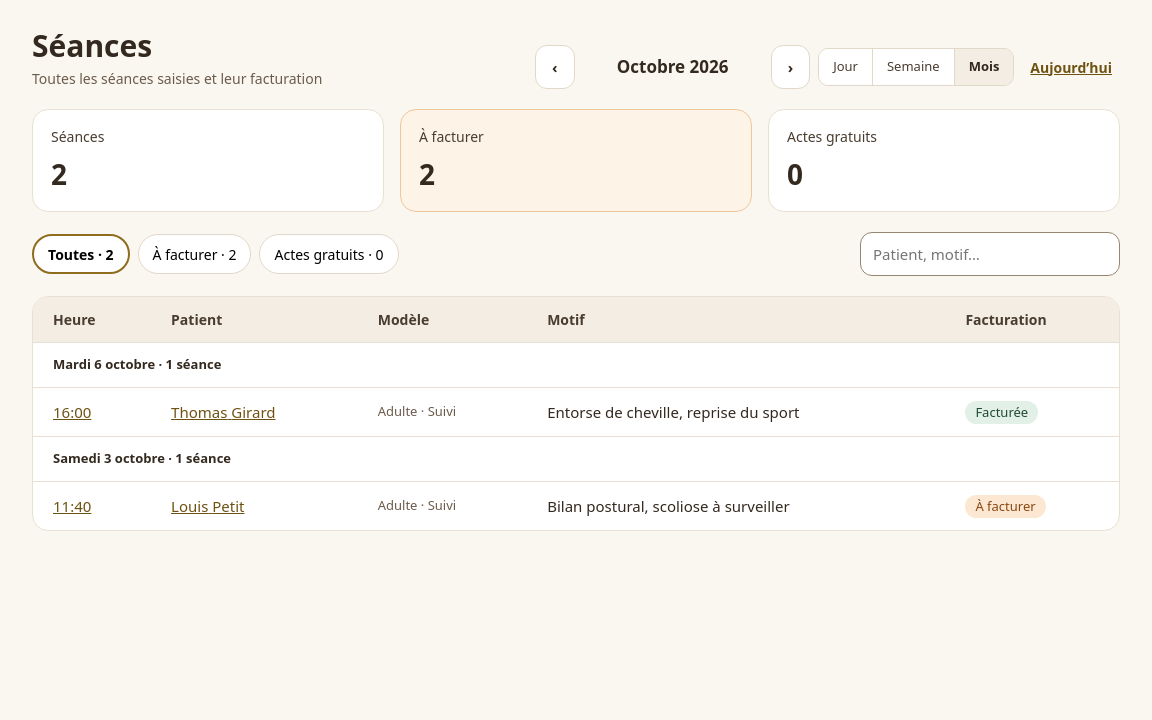
Scenario: séances › liste les séances d'une période, par jour, avec filtres et recherche
Check: the text "Octobre 2026" is shown, box [617,55,728,78]
Check: the column heading "Mardi 6 octobre · 1 séance" is shown, box [33,342,1119,387]
Type "entorse" into the search field named "Rechercher une séance" at [990, 254], box [860,232,1120,276]
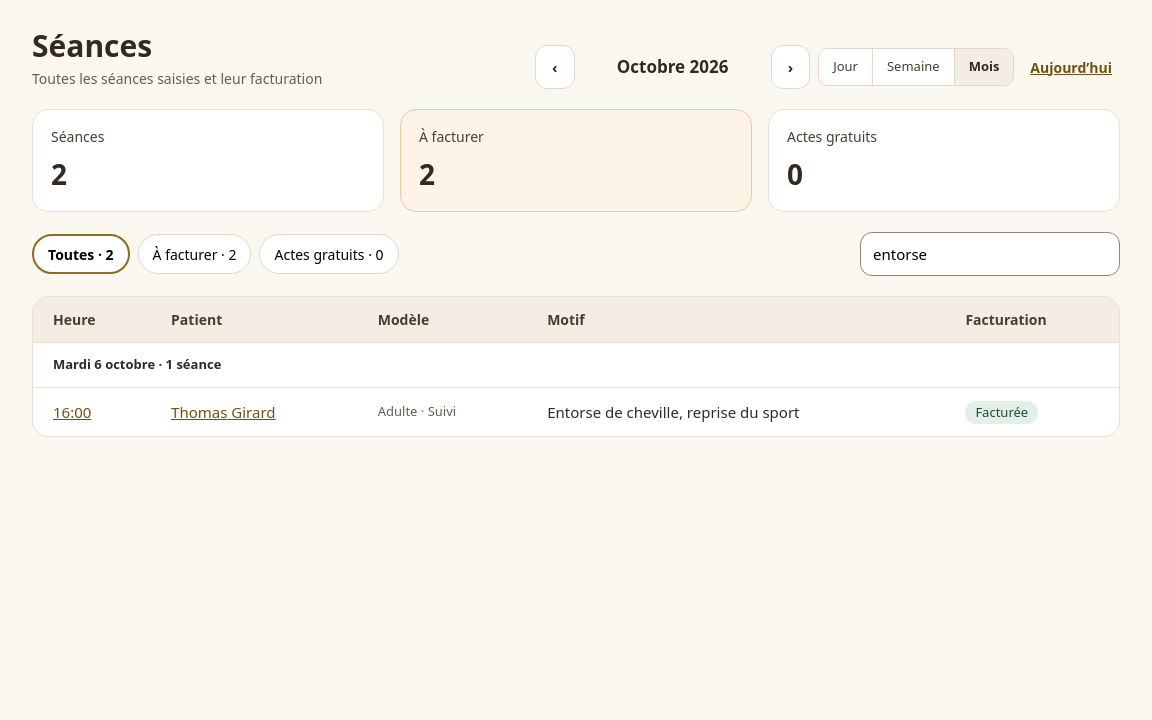
Check: the link "Louis Petit" is gone
Click the button named "Période précédente" at [555, 67], box [535,45,575,89]
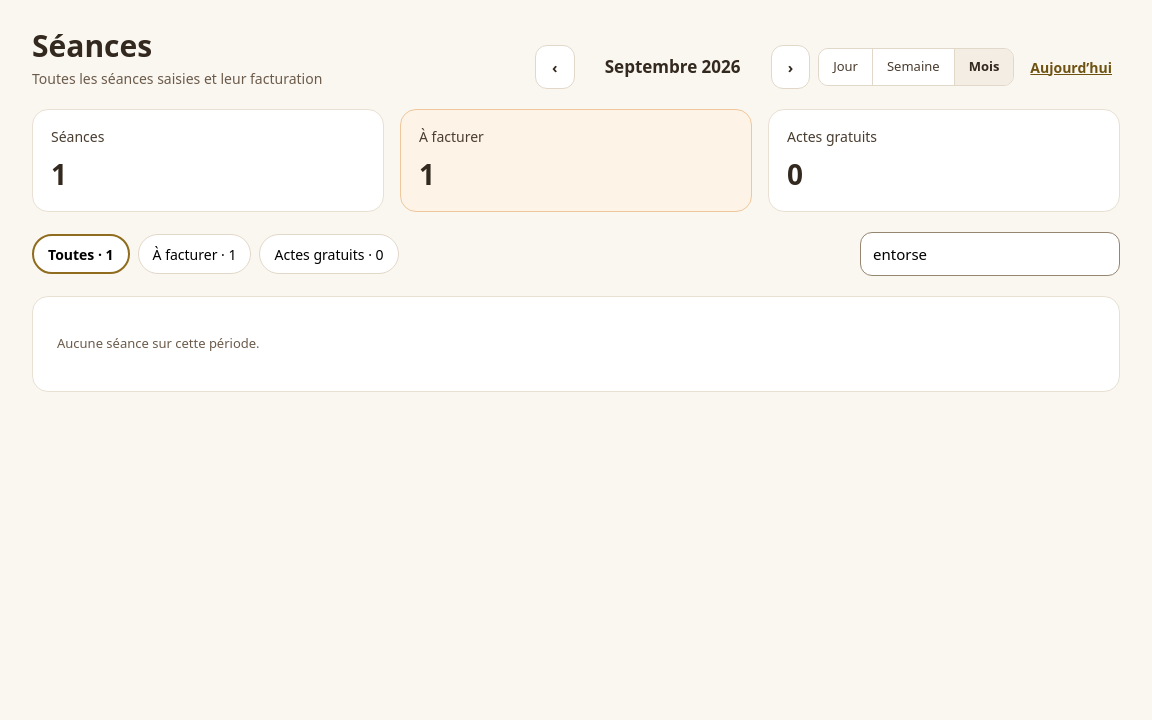
Check: the text "Septembre 2026" is shown, box [605,55,740,78]
Clear the search field named "Rechercher une séance" at [990, 254], box [860,232,1120,276]
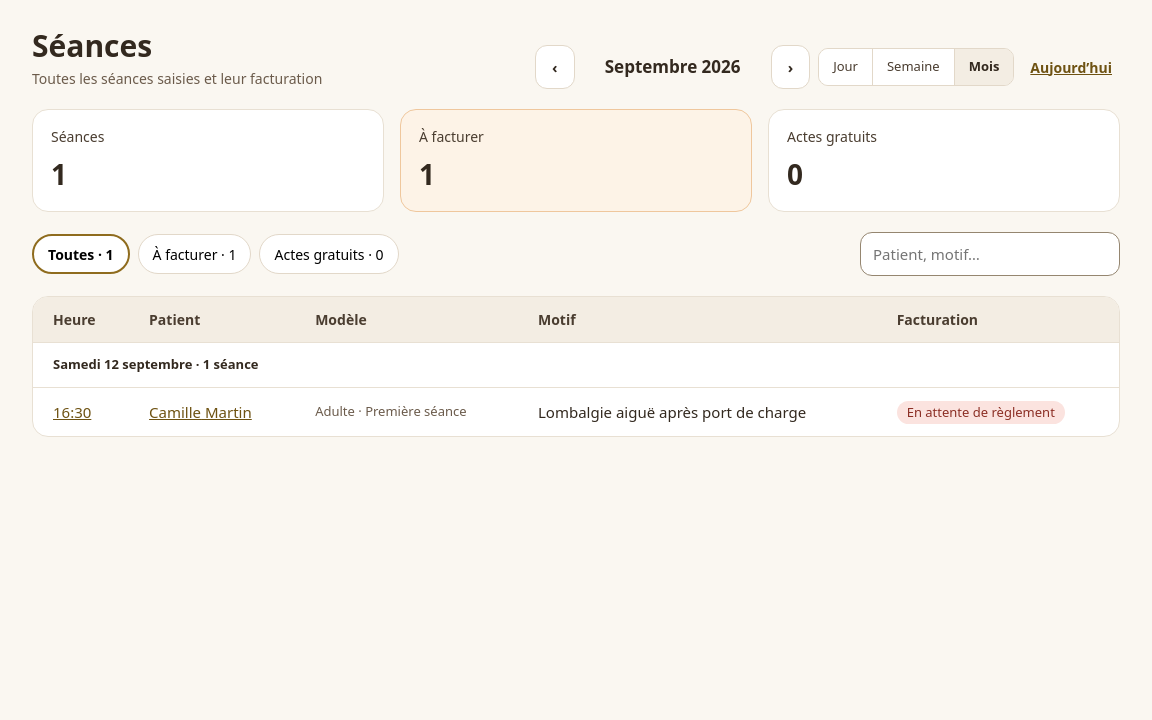
Check: the link "Camille Martin" is shown, box [149,402,252,422]
